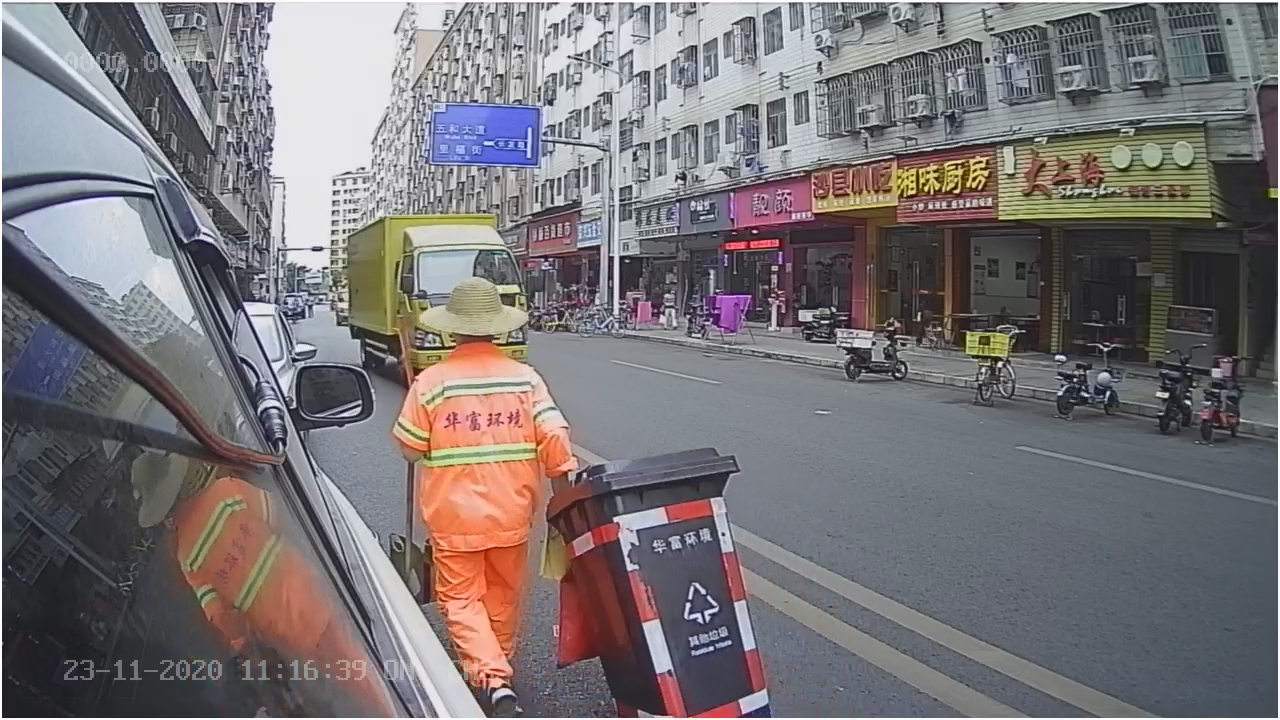person: (410, 273, 578, 481)
